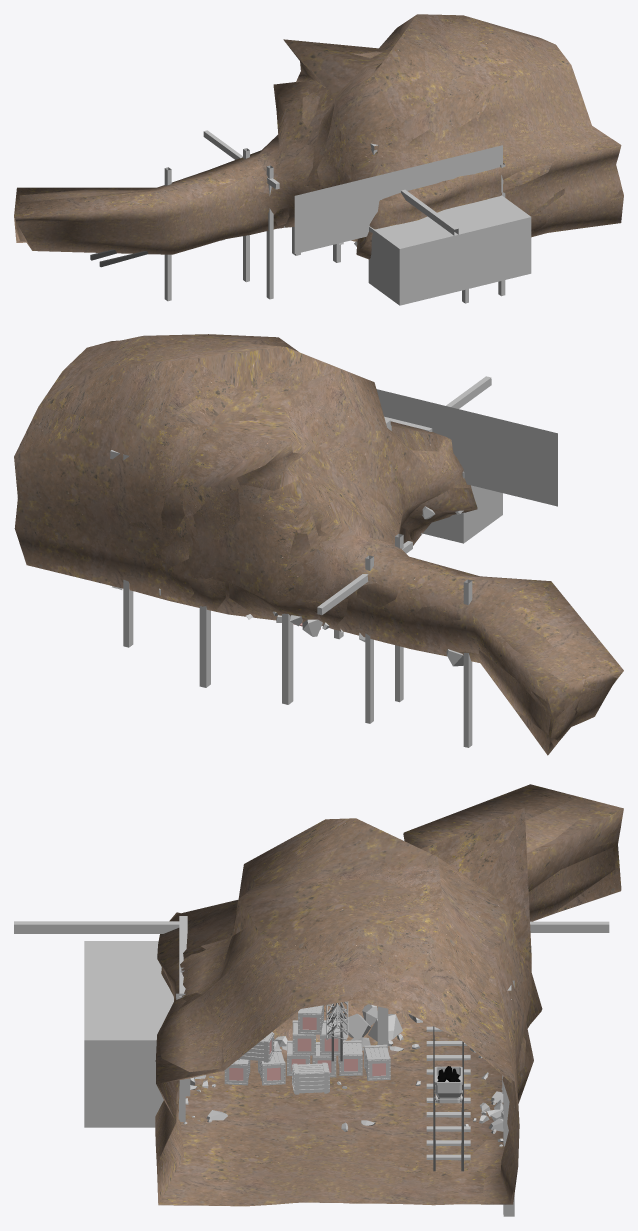
File: game_final.fbx
3 renders of one model, top to bottom at view 1: azimuth 30°, elevation 25°; view 2: azimuth 150°, elevation 25°; view 3: azimuth 270°, elevation 25°, orthographic. The views are drawn at different scales.
Visible parts, largest first — view 1: Cube, Cube.123, Cube.012, Cube.054, Plane.013, Plane.003, Plane.040, Plane.012, Cube.098; view 2: Cube.123, Cube, Cube.054, Cube.012, Plane.040, Plane.008, Plane.015, Plane.011, Plane.017, Plane.012, Plane.013; view 3: Cube.123, Cube, Cube.012, Plane.003, Cube.099, Cube.110, cube, Plane.012, Cube.106, Circle.002, Cube.104, Cube.107 (+6 smaller).
Boxes of the visible parts, bbox=[...] form: Cube: bbox=[14, 20, 623, 259]; Cube.123: bbox=[14, 14, 623, 258]; Cube.012: bbox=[368, 195, 531, 305]; Cube.054: bbox=[294, 145, 502, 253]; Plane.013: bbox=[266, 165, 273, 299]; Plane.003: bbox=[401, 189, 458, 235]; Plane.040: bbox=[164, 167, 171, 301]; Plane.012: bbox=[203, 130, 279, 189]; Cube.098: bbox=[90, 249, 148, 267]; Cube.123: bbox=[14, 334, 623, 754]; Cube: bbox=[124, 341, 623, 755]; Cube.054: bbox=[376, 389, 557, 506]; Cube.012: bbox=[423, 471, 502, 543]; Plane.040: bbox=[463, 579, 472, 747]; Plane.008: bbox=[282, 613, 293, 704]; Plane.015: bbox=[199, 606, 210, 687]; Plane.011: bbox=[365, 555, 373, 723]; Plane.017: bbox=[123, 454, 133, 647]; Plane.012: bbox=[317, 541, 412, 615]; Plane.013: bbox=[395, 533, 403, 702]; Cube.123: bbox=[157, 784, 623, 1205]; Cube: bbox=[155, 798, 621, 1206]; Cube.012: bbox=[84, 941, 173, 1127]; Plane.003: bbox=[14, 921, 179, 933]; Cube.099: bbox=[426, 1026, 470, 1160]; Cube.110: bbox=[292, 1062, 329, 1094]; cube: bbox=[434, 1066, 462, 1102]; Plane.012: bbox=[530, 921, 609, 932]; Cube.106: bbox=[364, 1044, 390, 1080]; Circle.002: bbox=[326, 1001, 348, 1061]; Cube.104: bbox=[338, 1040, 362, 1075]; Cube.107: bbox=[258, 1049, 285, 1085].
Bounding box in the file's own units: 7746 × 3644 × 5401.
